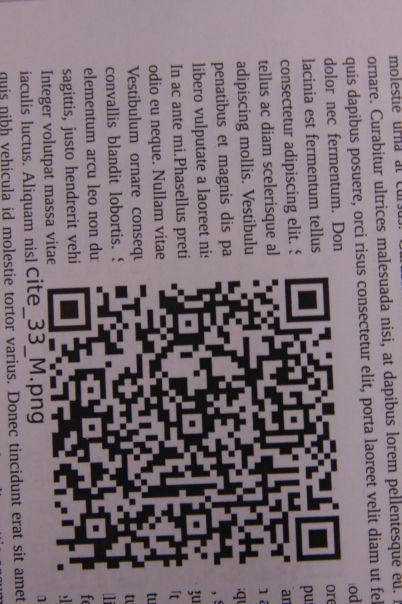Finder pattern: (291, 511, 347, 568), (280, 273, 337, 326), (43, 283, 96, 335)
